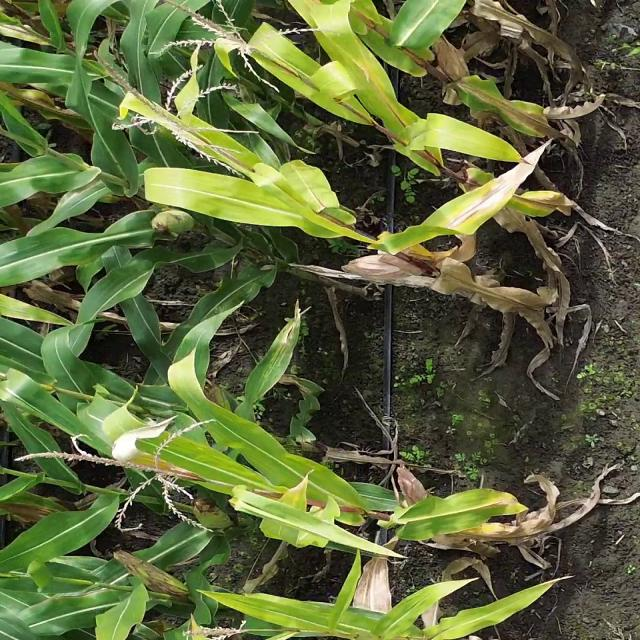gray-leaf-spot: (238, 272, 268, 298)
northern-leaf-blight: (460, 76, 535, 126), (432, 181, 495, 236), (472, 170, 547, 212), (466, 490, 523, 521)
